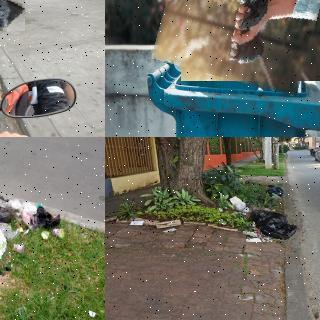Garbage: (166, 0, 320, 89), (245, 209, 303, 245), (0, 0, 26, 33), (31, 205, 64, 230), (0, 220, 13, 273), (0, 194, 17, 227), (267, 183, 285, 198)
